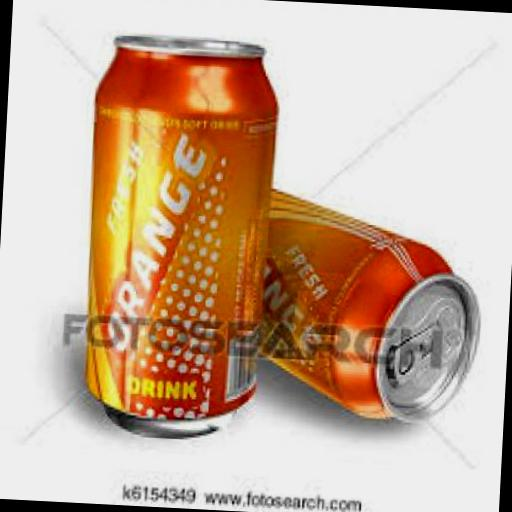metal: (76, 34, 278, 438), (258, 184, 484, 421)
